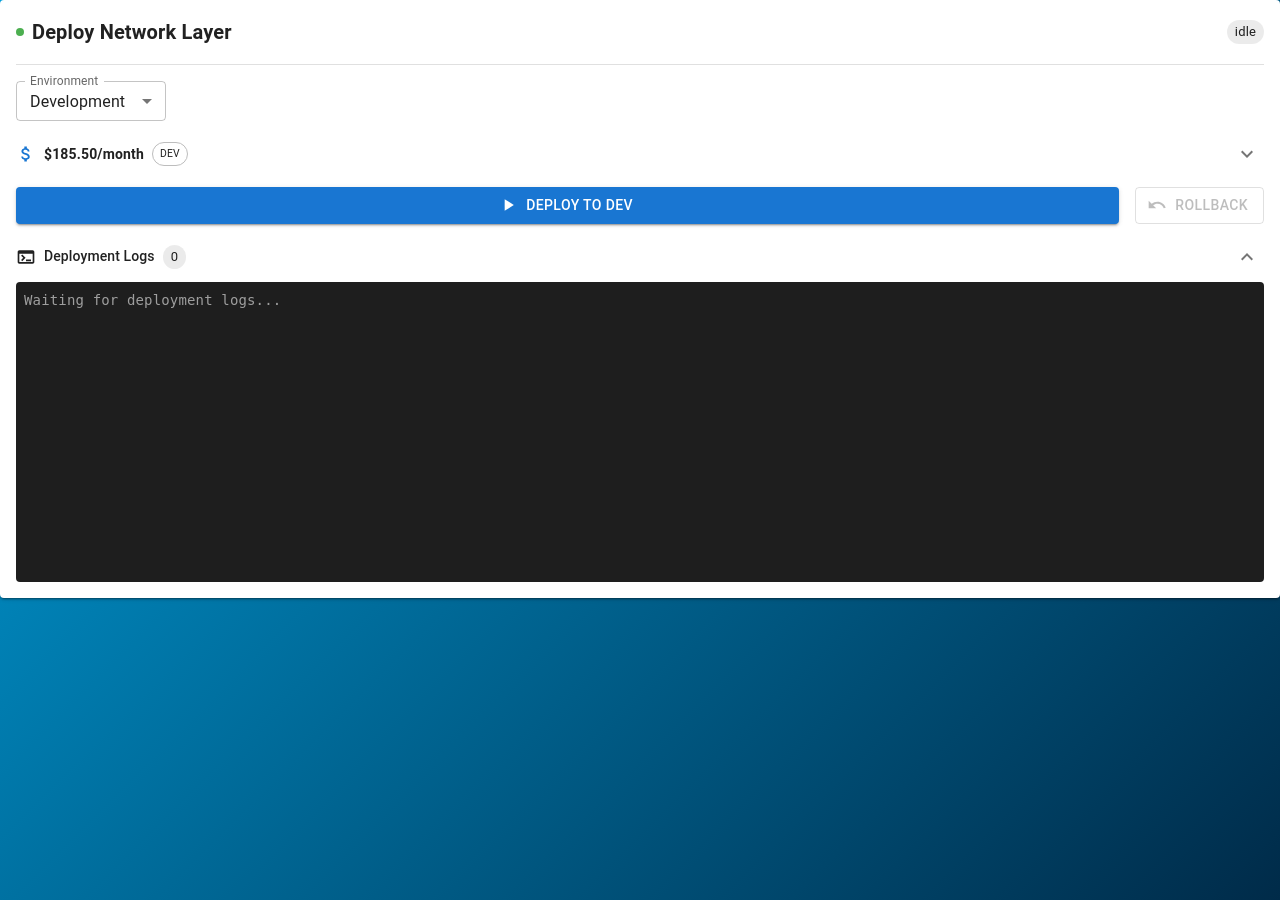
Test: LayerDeploymentPanel - Cost Display › shows cost breakdown when expanded
Expected: the text "$185.50/month" is shown, [44, 144, 144, 164]
Click the text "$185.50/month dev" at (102,154), box [16, 142, 188, 166]
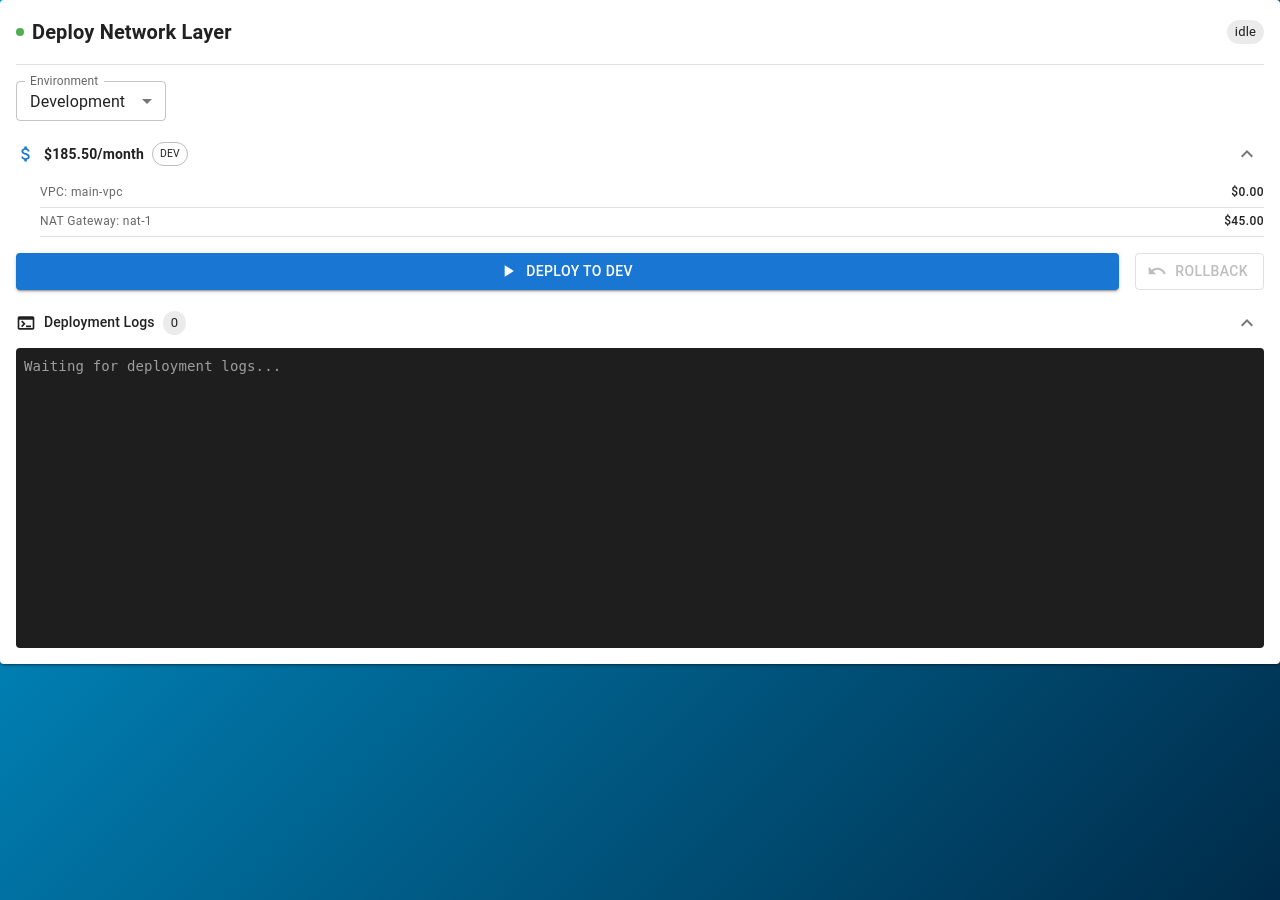
Expected: the text "NAT Gateway: nat-1" is shown, [40, 212, 152, 232]
